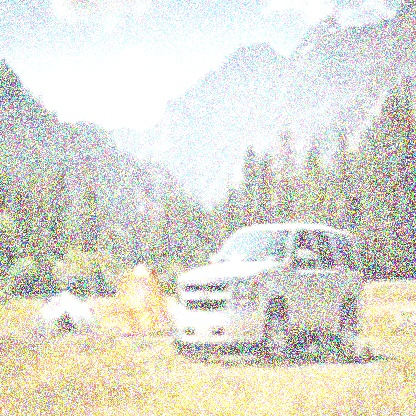Vehicle: (169, 219, 369, 374)
